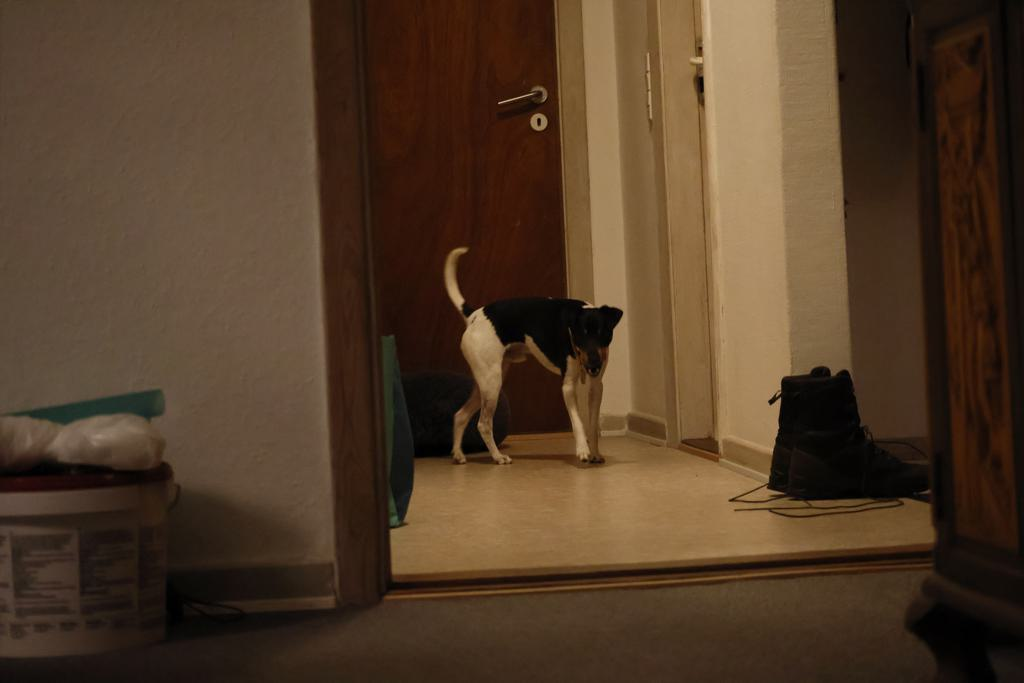Dog: (438, 238, 634, 473)
